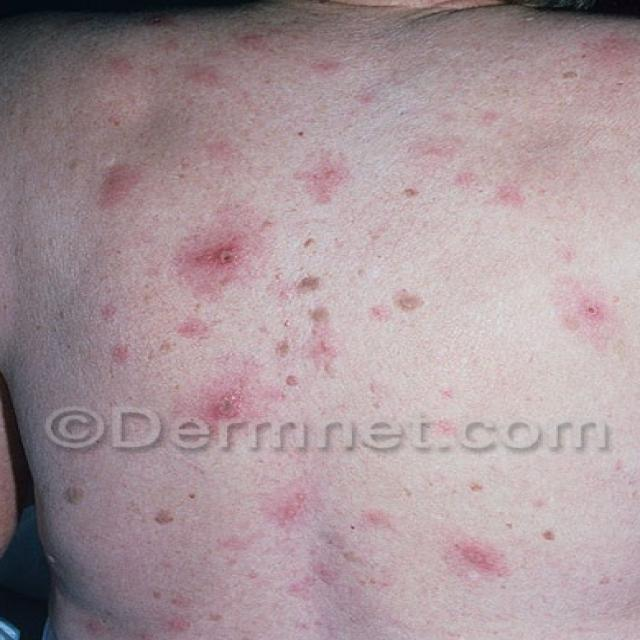Viral Infections: (60, 61, 610, 640)
